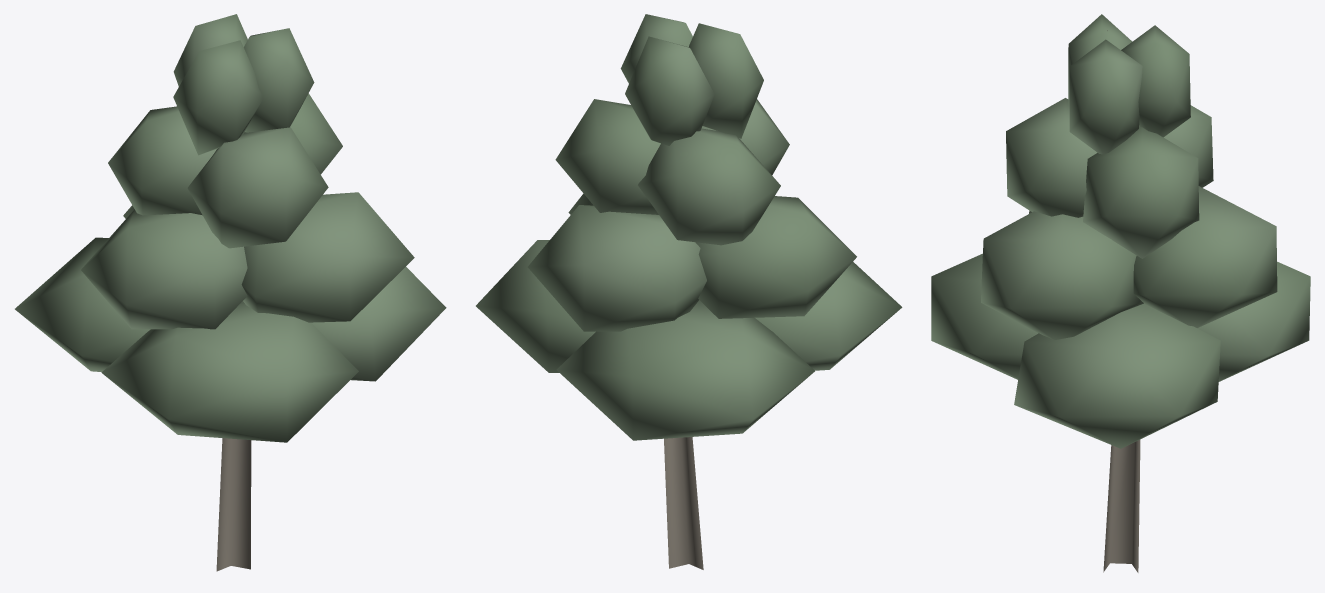
File: aleppo_pine_0_far.glb
3 views of the same model, side by side, from view 1: azimuth 30°, elevation 25°; view 2: azimuth 150°, elevation 25°; view 3: azimuth 270°, elevation 25° (orthographic).
Visible parts, largest first — view 1: geometry_0; view 2: geometry_0; view 3: geometry_0.
Boxes of the visible parts, bbox=[...] form: geometry_0: bbox=[15, 14, 446, 571]; geometry_0: bbox=[476, 14, 902, 569]; geometry_0: bbox=[931, 14, 1310, 572].
Bounding box in the file's own units: 5.06 × 8.06 × 5.16.
